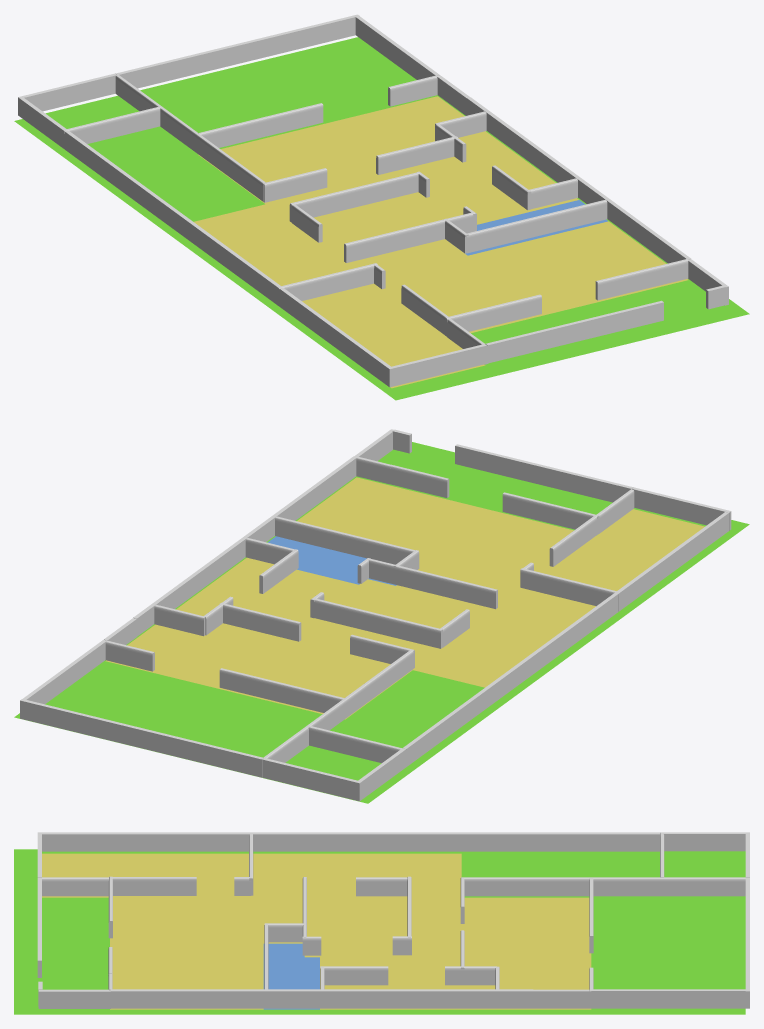
File: map.fbx
3 views of the same model, one above another, from view 1: azimuth 30°, elevation 25°; view 2: azimuth 150°, elevation 25°; view 3: azimuth 270°, elevation 25° (orthographic). The views are drawn at different scales.
Visible parts, largest first — view 1: Plane, Cube.037, Cube.032, Cube.005, Cube.012, Cube, Cube.020, Cube.003, Cube.013, Cube.011, Cube.035, Cube.034 (+21 smaller); view 2: Plane, Cube.037, Cube.032, Cube.005, Cube, Cube.003, Cube.012, Cube.020, Cube.013, Cube.035, Cube.011, Cube.034 (+20 smaller); view 3: Plane, Cube.012, Cube.035, Cube.034, Cube.020, Cube.011, Cube.014, Cube.008, Cube.007, Cube.010, Cube.023, Cube.030 (+13 smaller).
Boxes of the visible parts, <box> form: Plane: <box>14,37,749,400</box>; Cube.037: <box>115,14,359,88</box>; Cube.032: <box>485,300,663,363</box>; Cube.005: <box>467,199,607,253</box>; Cube.012: <box>65,130,184,234</box>; Cube: <box>289,172,420,222</box>; Cube.020: <box>279,287,390,385</box>; Cube.003: <box>344,212,474,262</box>; Cube.013: <box>198,103,323,147</box>; Cube.011: <box>181,216,280,304</box>; Cube.035: <box>467,97,580,182</box>; Cube.034: <box>577,178,690,263</box>; Plane: <box>14,442,749,803</box>; Cube.037: <box>20,699,263,777</box>; Cube.032: <box>455,444,633,502</box>; Cube.005: <box>275,516,414,564</box>; Cube: <box>312,598,442,648</box>; Cube.003: <box>367,558,497,609</box>; Cube.012: <box>403,663,522,766</box>; Cube.020: <box>617,512,728,609</box>; Cube.013: <box>219,668,344,712</box>; Cube.035: <box>133,537,246,636</box>; Cube.011: <box>519,592,618,681</box>; Cube.034: <box>243,456,356,542</box>; Plane: <box>14,849,745,1014</box>; Cube.012: <box>436,832,660,851</box>; Cube.035: <box>321,989,533,1008</box>; Cube.034: <box>110,989,321,1008</box>; Cube.020: <box>42,832,249,851</box>; Cube.011: <box>252,832,436,851</box>; Cube.014: <box>591,989,747,1008</box>; Cube.008: <box>593,877,745,896</box>; Cube.007: <box>463,877,593,896</box>; Cube.010: <box>663,832,749,851</box>; Cube.023: <box>110,877,196,895</box>; Cube.030: <box>38,989,110,1008</box>.
Bounding box in the file's own units: 4077 × 228 × 7658.
